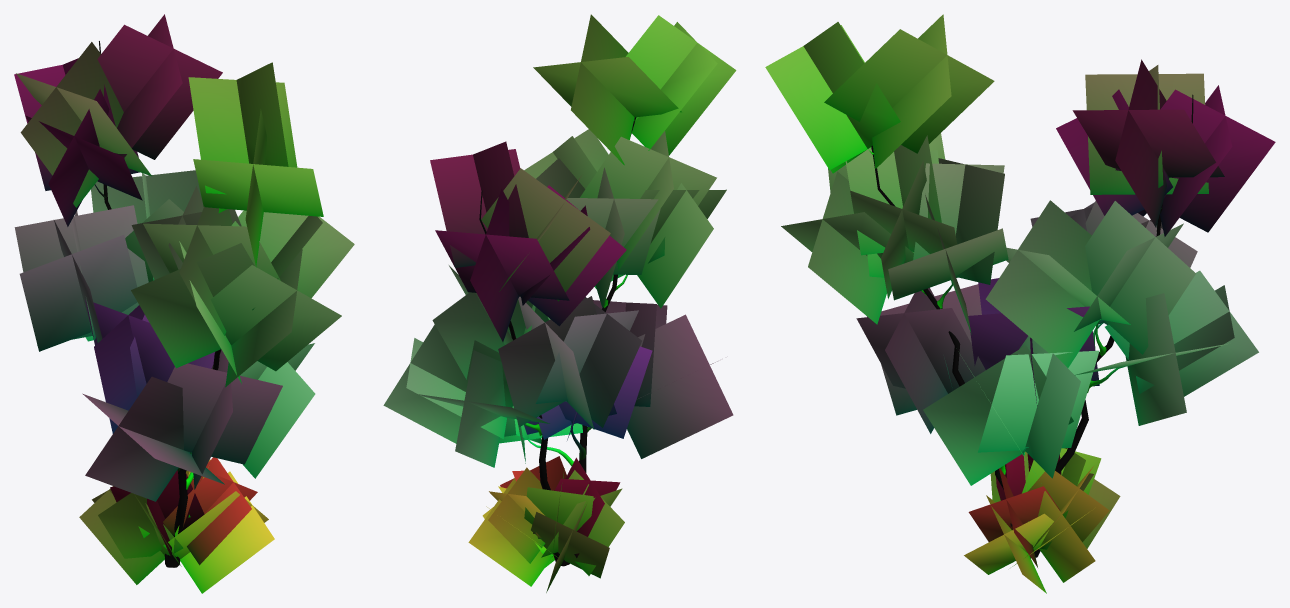
The model's file is M_P12_Tree_7.fbx.
The picture shows the model from 3 angles, left to right: view 1: azimuth 30°, elevation 25°; view 2: azimuth 150°, elevation 25°; view 3: azimuth 270°, elevation 25°; orthographic projection. The views are drawn at different scales.
Parts seen in each view (by area): view 1: Tree_7; view 2: Tree_7; view 3: Tree_7.
Part boxes in pixels (x1,y1,x2,y2): Tree_7: (14, 14, 354, 593); Tree_7: (383, 14, 736, 592); Tree_7: (765, 14, 1275, 593).
Size of the model in its own units: 168 by 346 by 283.
